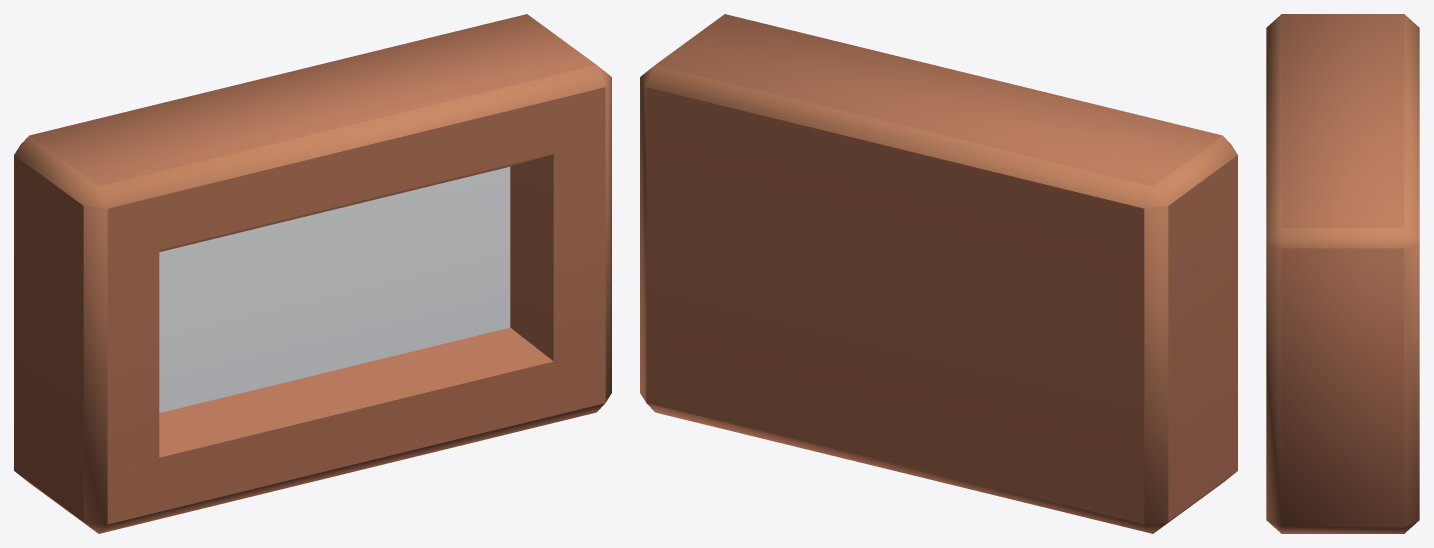
File: kkf.pictureframe_small_b.glb
The picture shows the model from 3 angles, left to right: view 1: azimuth 30°, elevation 25°; view 2: azimuth 150°, elevation 25°; view 3: azimuth 270°, elevation 25°; orthographic projection. The views are drawn at different scales.
Parts seen in each view (by area): view 1: pictureframe_small_B; view 2: pictureframe_small_B; view 3: pictureframe_small_B.
Boxes of the visible parts, box(x1,y1,x2,y2) form: pictureframe_small_B: box(14, 14, 611, 533); pictureframe_small_B: box(640, 14, 1237, 533); pictureframe_small_B: box(1266, 14, 1419, 533).
Size of the model in its own units: 0.2504 by 0.1574 by 0.0715.
Materials: 1 (1 with a texture image).
